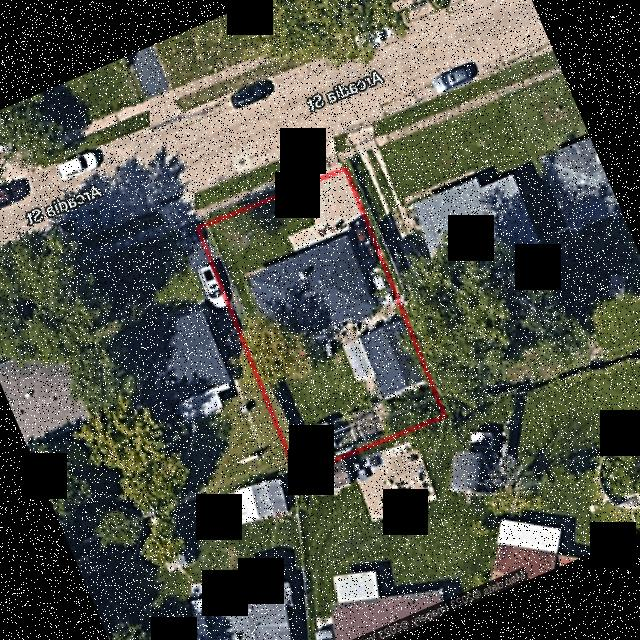Driveway: (285, 170, 400, 344)
Extra Driveway: (301, 136, 340, 178)
Extra Lawn: (182, 150, 308, 211), (191, 173, 309, 226)
Extra Sidewalk: (188, 164, 310, 222)
House: (247, 232, 375, 348)
Other: (358, 317, 425, 396), (303, 405, 383, 453), (341, 337, 373, 381)
